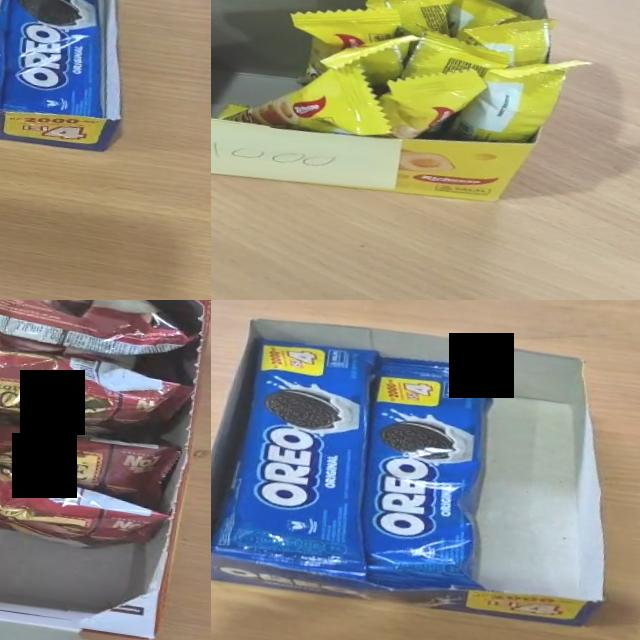Ahh: (223, 65, 387, 136), (451, 61, 586, 143), (293, 8, 399, 81), (379, 70, 483, 139), (321, 35, 417, 89), (406, 30, 506, 77), (464, 19, 554, 66), (368, 0, 451, 35), (449, 0, 519, 39)
Chocopie: (0, 335, 198, 443), (0, 396, 184, 506), (0, 453, 175, 560), (0, 300, 205, 366)
Oreo: (211, 334, 399, 581), (350, 356, 508, 594), (0, 0, 125, 124)
